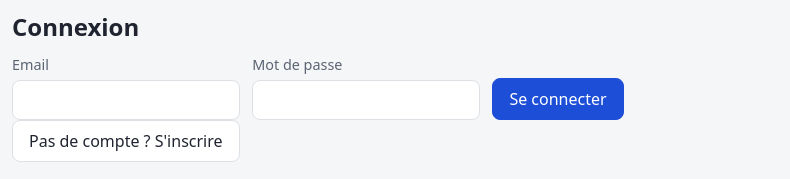
Auth › shows the server error message when login fails
In the field labelled "Email": {"x": 126, "y": 100} [12, 80, 240, 120], type "client@example.com"
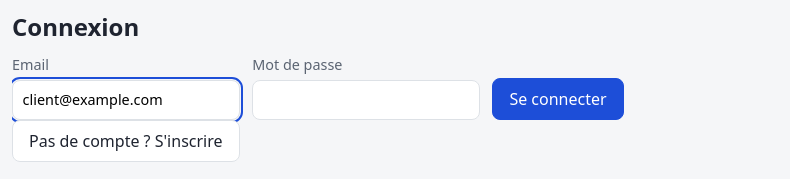
In the password field labelled "Mot de passe": {"x": 366, "y": 100} [252, 80, 480, 120], type "WrongPassword"
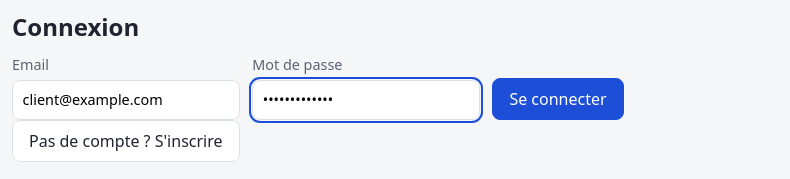
Click the button "Se connecter": {"x": 558, "y": 99} [492, 78, 624, 120]
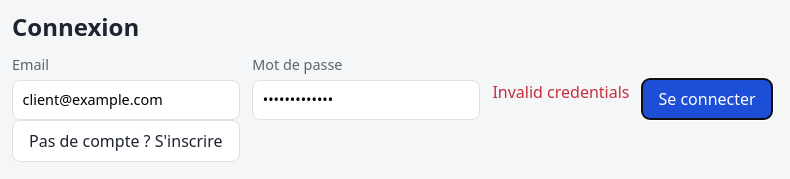
Expected: the message reads "Invalid credentials", [492, 81, 630, 103]
